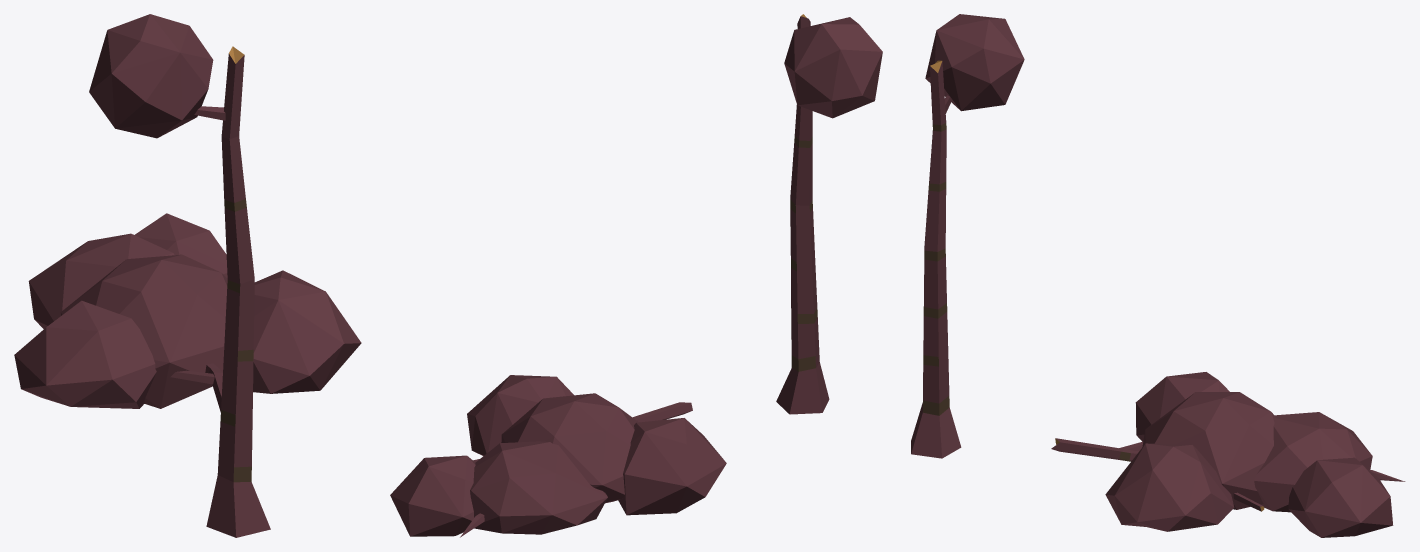
File: tree-birch-tall-broken.fbx
3 views of the same model, side by side, from view 1: azimuth 30°, elevation 25°; view 2: azimuth 150°, elevation 25°; view 3: azimuth 270°, elevation 25° (orthographic). The views are drawn at different scales.
Parts seen in each view (by area): view 1: tree-birch-tall-broken; view 2: tree-birch-tall-broken; view 3: tree-birch-tall-broken.
Boxes of the visible parts, x1,y1,x2,y2 form: tree-birch-tall-broken: [14, 14, 361, 537]; tree-birch-tall-broken: [390, 14, 882, 537]; tree-birch-tall-broken: [911, 14, 1405, 537].
Bounding box in the file's own units: 4.48 × 5.89 × 6.46.
